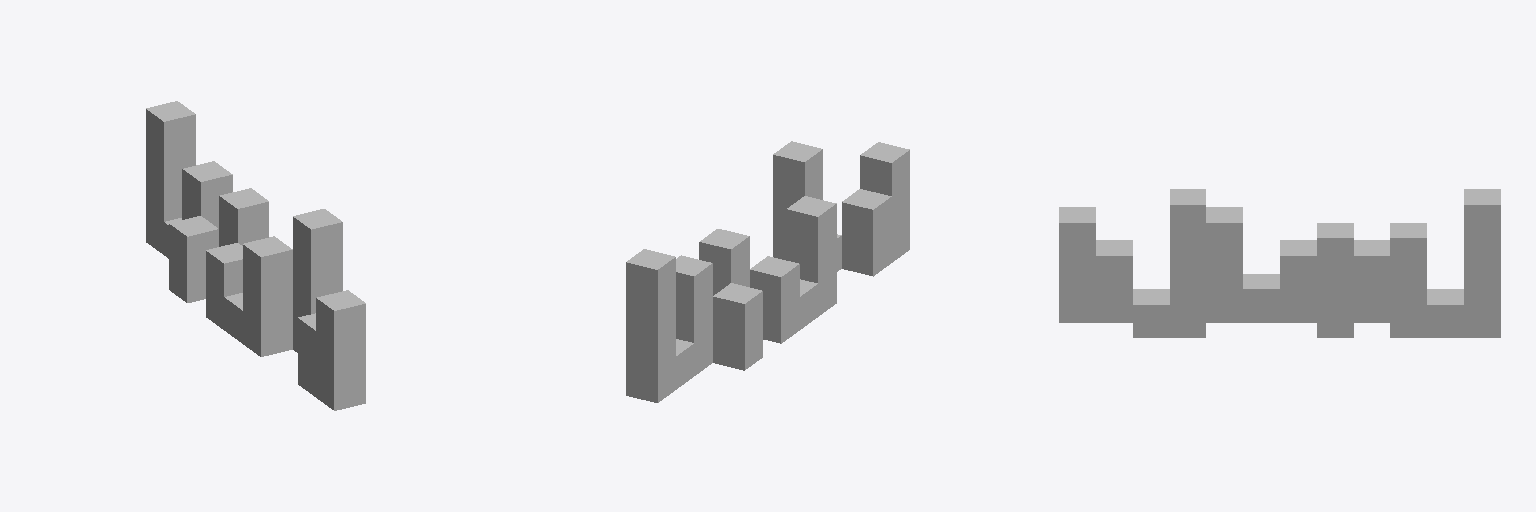
The model's file is Cerca 1.obj.
3 views of the same model, side by side, from view 1: azimuth 30°, elevation 25°; view 2: azimuth 150°, elevation 25°; view 3: azimuth 270°, elevation 25° (orthographic).
Parts seen in each view (by area): view 1: object 1; view 2: object 1; view 3: object 1.
Part boxes in pixels (left/top/right/bottom): object 1: left=146, top=101, right=365, bottom=410; object 1: left=626, top=141, right=909, bottom=402; object 1: left=1059, top=189, right=1500, bottom=337.
Bounding box in the file's own units: 0.2 × 0.4 × 1.2.